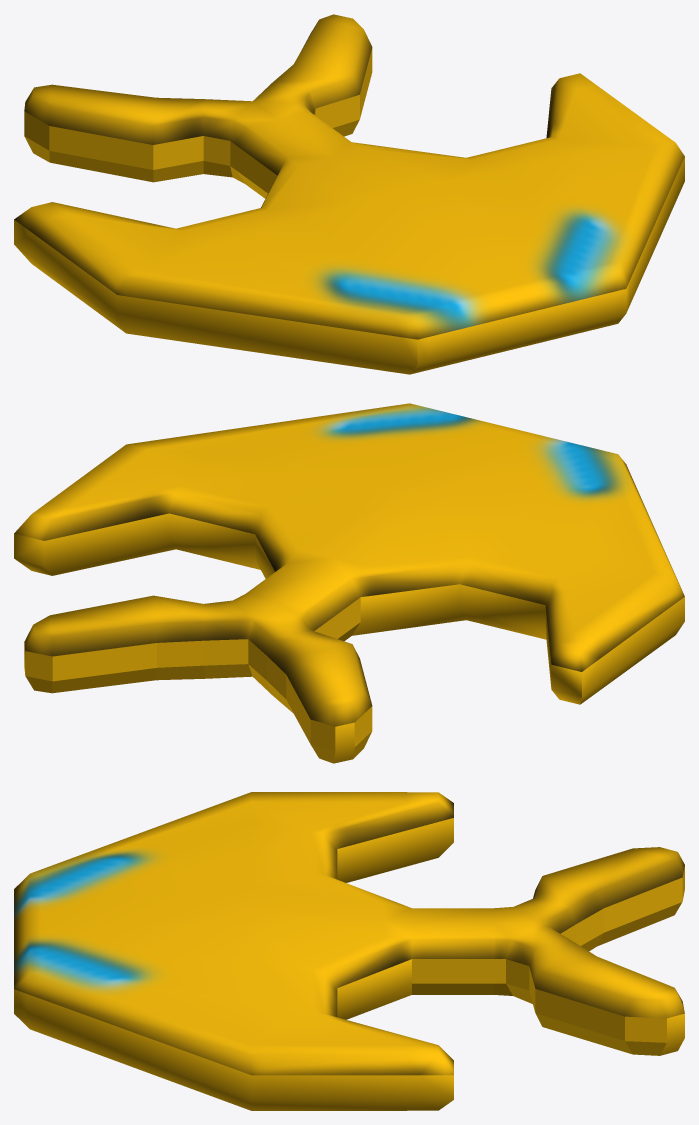
The model's file is EnemyShip_Orange.FBX.
The picture shows the model from 3 angles, top to bottom: view 1: azimuth 30°, elevation 25°; view 2: azimuth 150°, elevation 25°; view 3: azimuth 270°, elevation 25°; orthographic projection.
Parts seen in each view (by area): view 1: Box001; view 2: Box001; view 3: Box001.
Boxes of the visible parts, x1,y1,x2,y2 form: Box001: [14, 14, 684, 374]; Box001: [14, 403, 684, 763]; Box001: [14, 792, 684, 1110].
Size of the model in its own units: 38.35 by 4.81 by 39.97.
